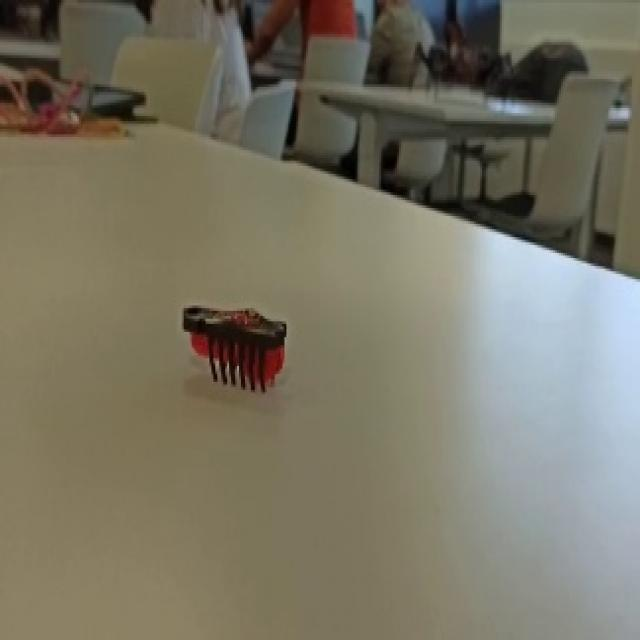2_NanoBug_Negro: (163, 283, 325, 432)
